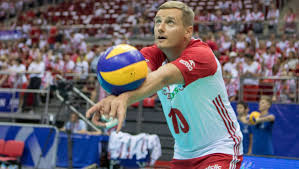ball: (96, 44, 148, 97)
